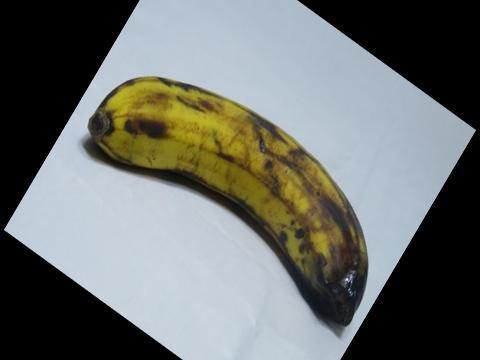overripe: (68, 59, 399, 354)
rotten: (258, 206, 375, 342)
